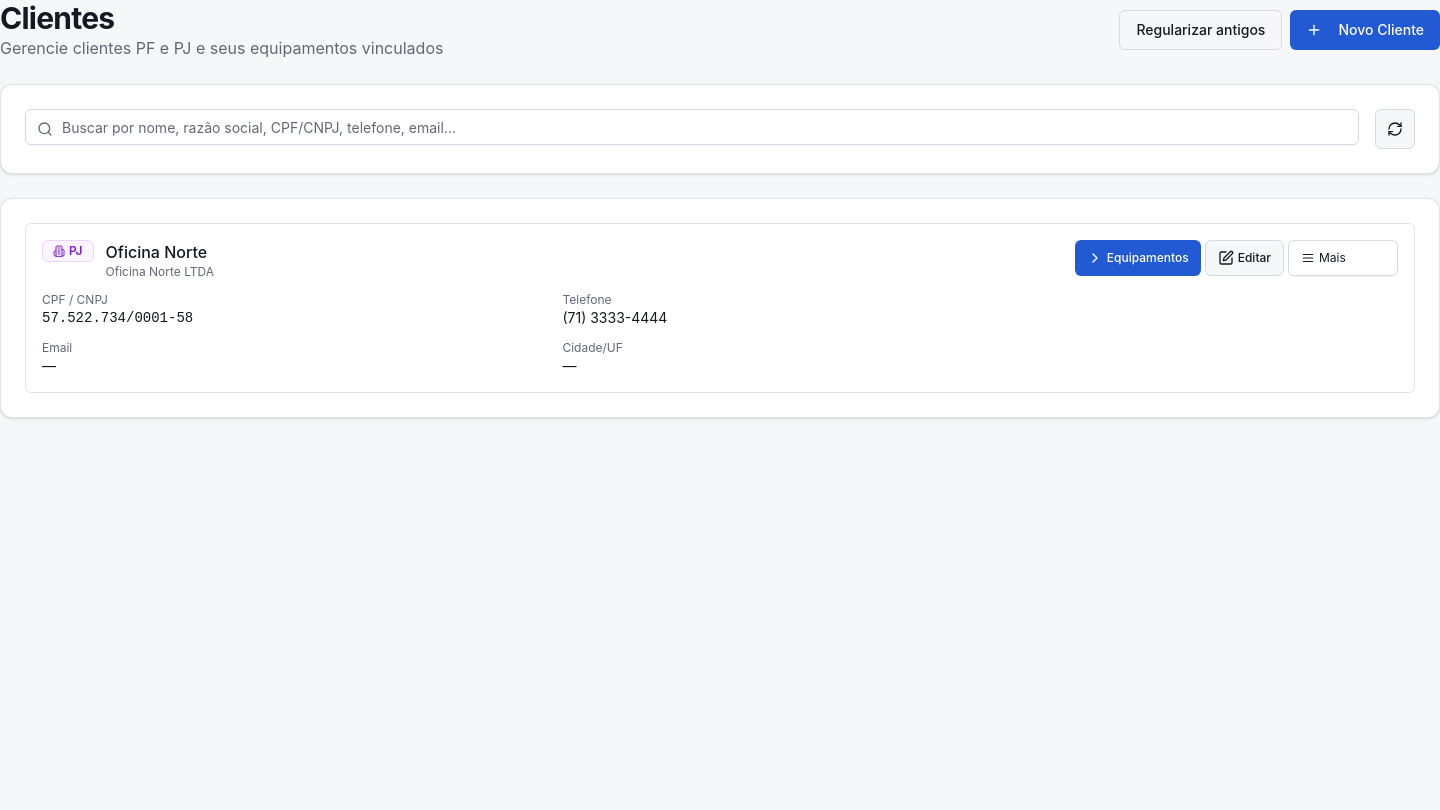
Scenario: Clientes: PJ antigo sem celular na edição › não pede contato extra quando o PJ já tem celular
Click the button "Editar" at (1244, 258), box [1205, 240, 1284, 276]
(page scrolled)
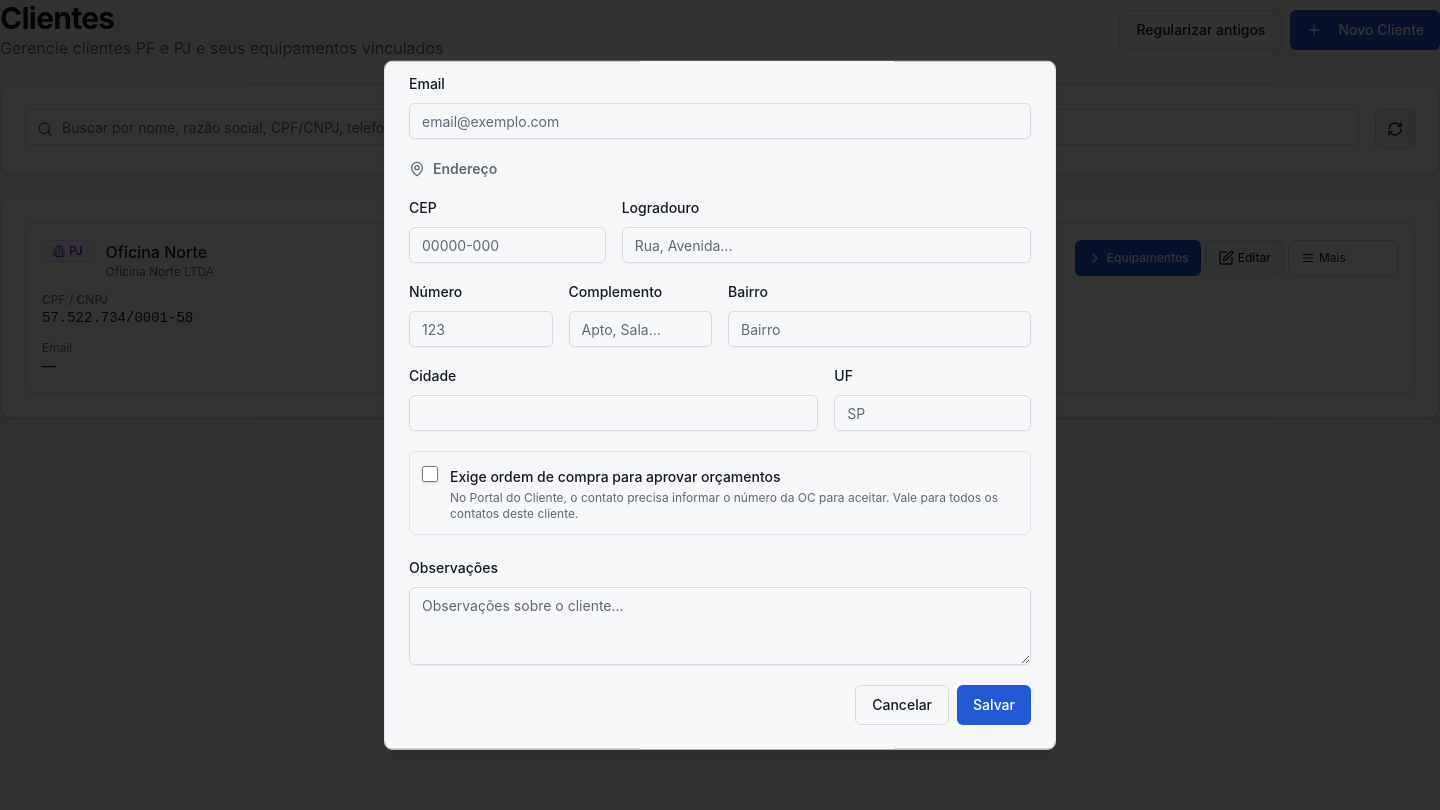
Expected: the checkbox labelled "Exige ordem de compra para aprovar orçamentos" is shown, [422, 466, 438, 482]
